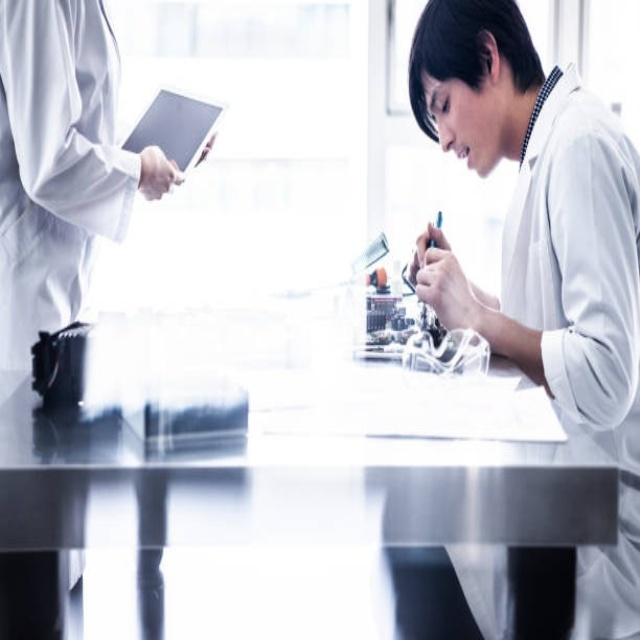Sin_gafas: (428, 78, 455, 140)
Sin_guantes: (412, 220, 477, 326), (136, 141, 187, 207)
Sin_mascara: (452, 143, 484, 182)
